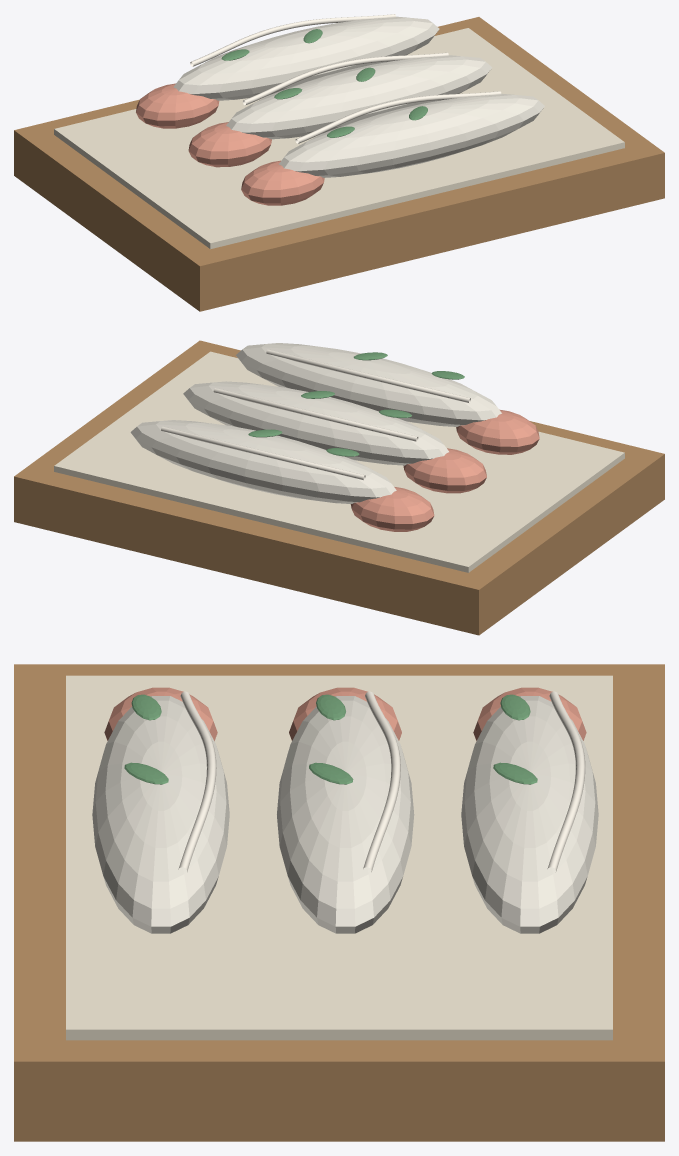
Rendered from portioned_shrimp_roll.glb.
3 renders of one model, top to bottom at view 1: azimuth 30°, elevation 25°; view 2: azimuth 150°, elevation 25°; view 3: azimuth 270°, elevation 25°, orthographic. The views are drawn at different scales.
Parts seen in each view (by area): view 1: portable_rice_sheet_board, small_parchment_liner, rice_sheet_rolled_0, rice_sheet_rolled_2, rice_sheet_rolled_1, shrimp_core_2, shrimp_core_0, shrimp_core_1, unsteamed_wrapper_edge_1, unsteamed_wrapper_edge_2, unsteamed_wrapper_edge_0; view 2: portable_rice_sheet_board, small_parchment_liner, rice_sheet_rolled_2, rice_sheet_rolled_1, rice_sheet_rolled_0, shrimp_core_1, shrimp_core_0, shrimp_core_2, unsteamed_wrapper_edge_2, unsteamed_wrapper_edge_1, unsteamed_wrapper_edge_0; view 3: small_parchment_liner, portable_rice_sheet_board, rice_sheet_rolled_2, rice_sheet_rolled_0, rice_sheet_rolled_1, unsteamed_wrapper_edge_0, unsteamed_wrapper_edge_2, unsteamed_wrapper_edge_1, shrimp_core_0, shrimp_core_1, shrimp_core_2.
Boxes of the visible parts, x1,y1,x2,y2 form: portable_rice_sheet_board: [14, 17, 664, 311]; small_parchment_liner: [54, 28, 624, 249]; rice_sheet_rolled_0: [279, 93, 544, 177]; rice_sheet_rolled_2: [173, 16, 439, 100]; rice_sheet_rolled_1: [226, 55, 492, 139]; shrimp_core_2: [136, 83, 219, 128]; shrimp_core_0: [241, 160, 324, 205]; shrimp_core_1: [188, 122, 271, 167]; unsteamed_wrapper_edge_1: [243, 52, 448, 105]; unsteamed_wrapper_edge_2: [190, 14, 396, 66]; unsteamed_wrapper_edge_0: [295, 91, 501, 143]; portable_rice_sheet_board: [14, 340, 664, 635]; small_parchment_liner: [54, 351, 624, 572]; rice_sheet_rolled_2: [130, 420, 396, 503]; rice_sheet_rolled_1: [183, 381, 448, 465]; rice_sheet_rolled_0: [236, 343, 501, 426]; shrimp_core_1: [403, 448, 486, 493]; shrimp_core_0: [456, 409, 539, 454]; shrimp_core_2: [350, 487, 434, 531]; unsteamed_wrapper_edge_2: [161, 426, 365, 480]; unsteamed_wrapper_edge_1: [213, 388, 418, 441]; unsteamed_wrapper_edge_0: [266, 349, 470, 403]; small_parchment_liner: [66, 675, 612, 1040]; portable_rice_sheet_board: [14, 664, 664, 1141]; rice_sheet_rolled_2: [461, 696, 598, 933]; rice_sheet_rolled_0: [92, 696, 229, 933]; rice_sheet_rolled_1: [277, 696, 414, 933]; unsteamed_wrapper_edge_0: [178, 691, 216, 871]; unsteamed_wrapper_edge_2: [547, 691, 585, 871]; unsteamed_wrapper_edge_1: [363, 691, 400, 871]; shrimp_core_0: [104, 687, 217, 740]; shrimp_core_1: [289, 687, 401, 740]; shrimp_core_2: [473, 687, 586, 740].
Size of the model in its own units: 0.78 by 0.1763 by 0.54.
